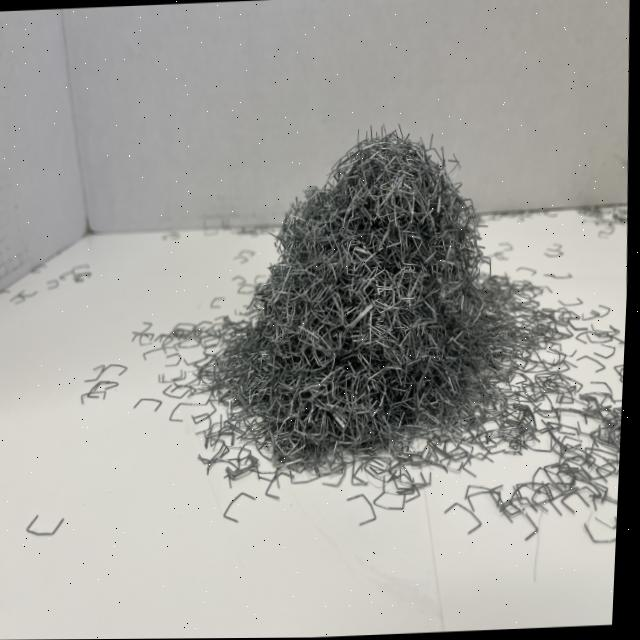staples: (185, 116, 529, 471)
